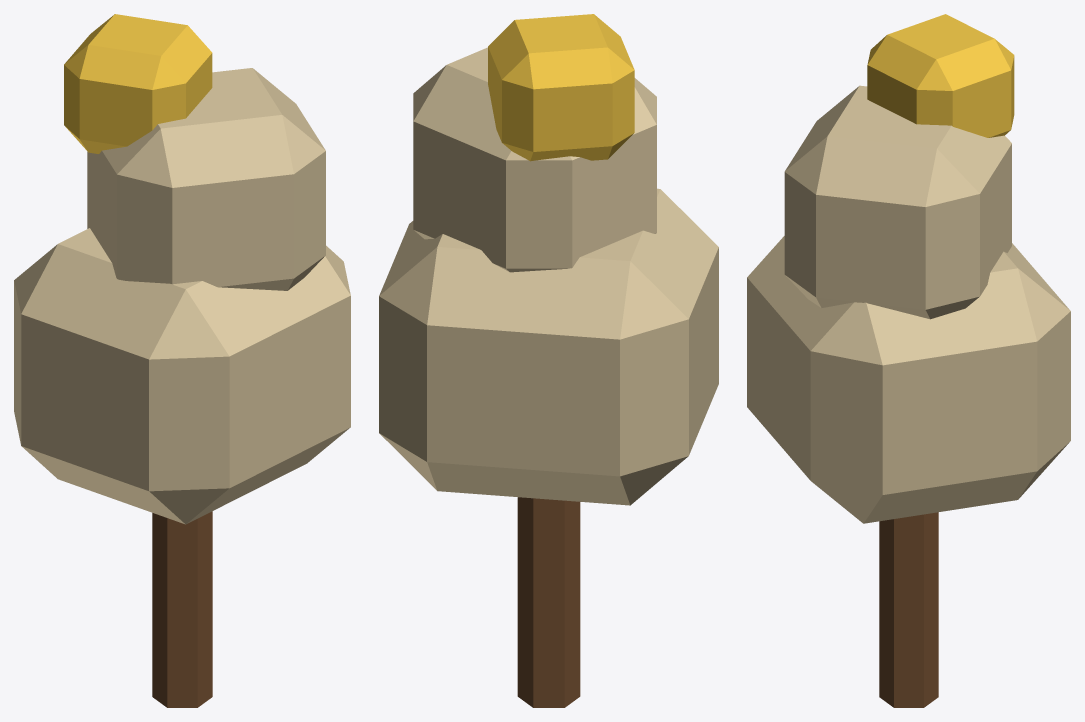
File: tree_maple.fbx
The picture shows the model from 3 angles, left to right: view 1: azimuth 30°, elevation 25°; view 2: azimuth 150°, elevation 25°; view 3: azimuth 270°, elevation 25°; orthographic projection. The views are drawn at different scales.
Visible parts, largest first — view 1: tree_maple; view 2: tree_maple; view 3: tree_maple.
Boxes of the visible parts, bbox=[...] form: tree_maple: bbox=[14, 14, 350, 707]; tree_maple: bbox=[379, 14, 718, 707]; tree_maple: bbox=[747, 14, 1070, 707].
Size of the model in its own units: 3.16 by 6.7 by 3.04.
